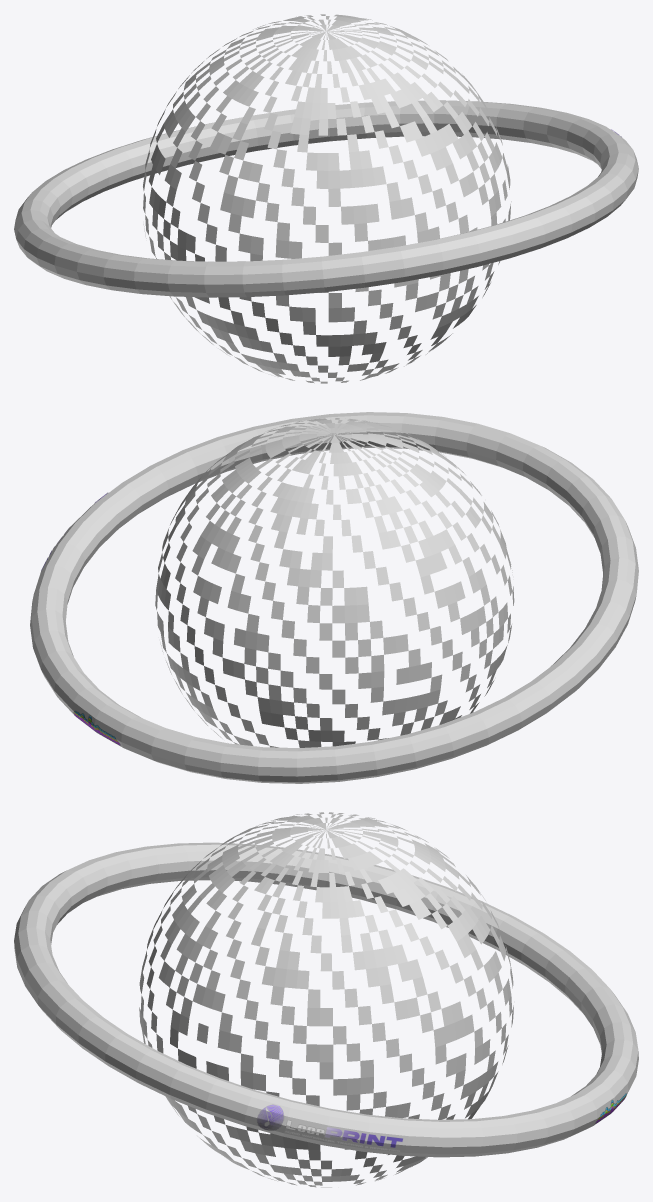
The model's file is sphereV4.2.2.glb.
3 renders of one model, top to bottom at view 1: azimuth 30°, elevation 25°; view 2: azimuth 150°, elevation 25°; view 3: azimuth 270°, elevation 25°, orthographic. The views are drawn at different scales.
Visible parts, largest first — view 1: Sphere, Torus; view 2: Torus, Sphere; view 3: Sphere, Torus, loopPrint-header.
Boxes of the visible parts, bbox=[...] form: Sphere: bbox=[143, 14, 511, 383]; Torus: bbox=[14, 100, 638, 297]; Torus: bbox=[30, 412, 638, 783]; Sphere: bbox=[155, 418, 514, 747]; Sphere: bbox=[139, 812, 513, 1187]; Torus: bbox=[14, 842, 638, 1157]; loopPrint-header: bbox=[257, 1104, 403, 1151].
Bounding box in the file's own units: 17.65 × 10 × 16.64.
2 materials, 2 textured.
